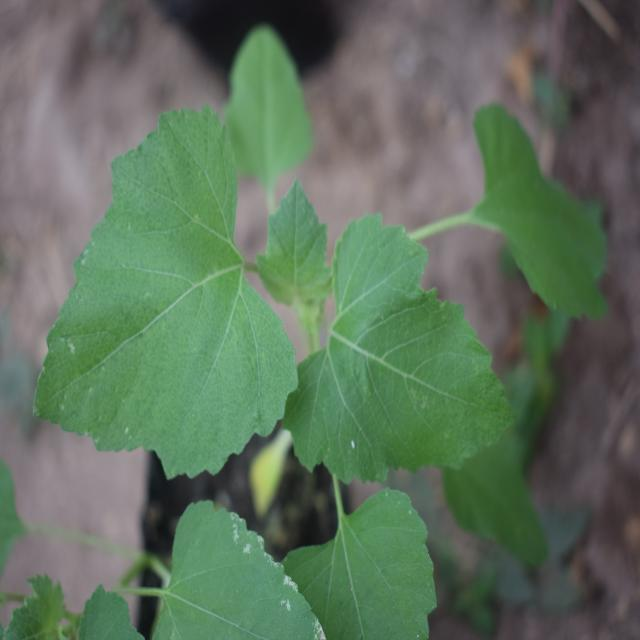cocklebur: (64, 92, 526, 560)
